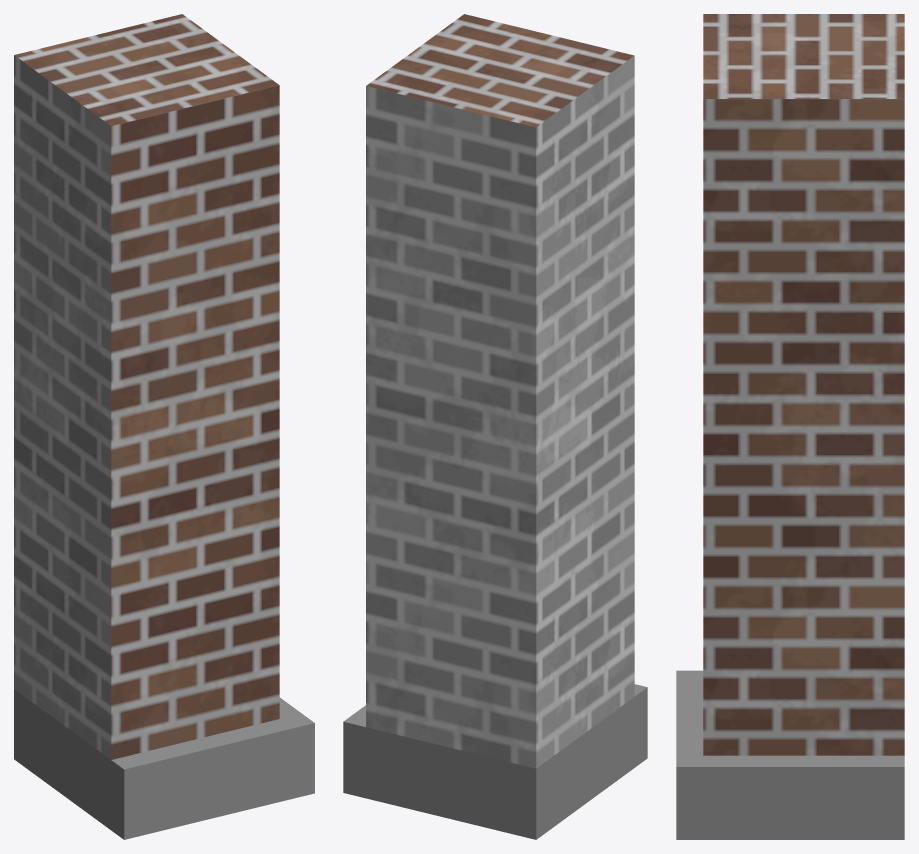
The model's file is Corner_Wall_001.FBX.
3 views of the same model, side by side, from view 1: azimuth 30°, elevation 25°; view 2: azimuth 150°, elevation 25°; view 3: azimuth 270°, elevation 25° (orthographic). The views are drawn at different scales.
Parts seen in each view (by area): view 1: Corner_Wall_001; view 2: Corner_Wall_001; view 3: Corner_Wall_001.
Boxes of the visible parts, x1=… form: Corner_Wall_001: x1=14, y1=14, x2=314, y2=839; Corner_Wall_001: x1=343, y1=14, x2=647, y2=839; Corner_Wall_001: x1=676, y1=14, x2=904, y2=839.
Size of the model in its own units: 85 by 85 by 300.
